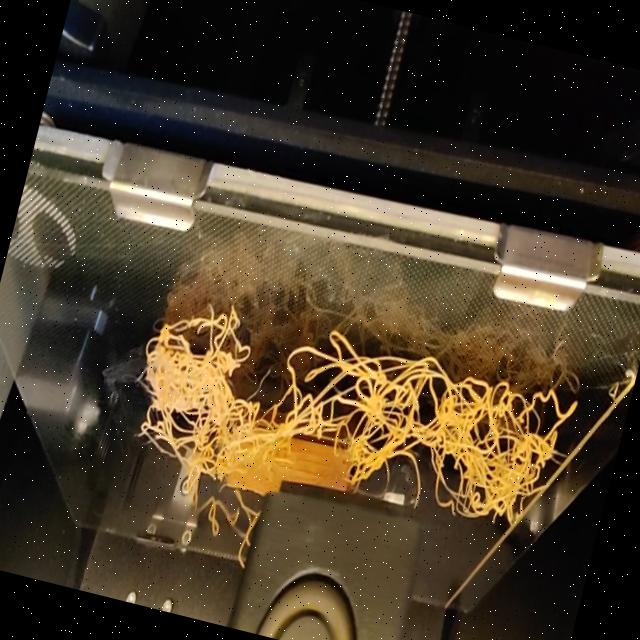spaghetti: (120, 289, 579, 540), (119, 438, 272, 573)
